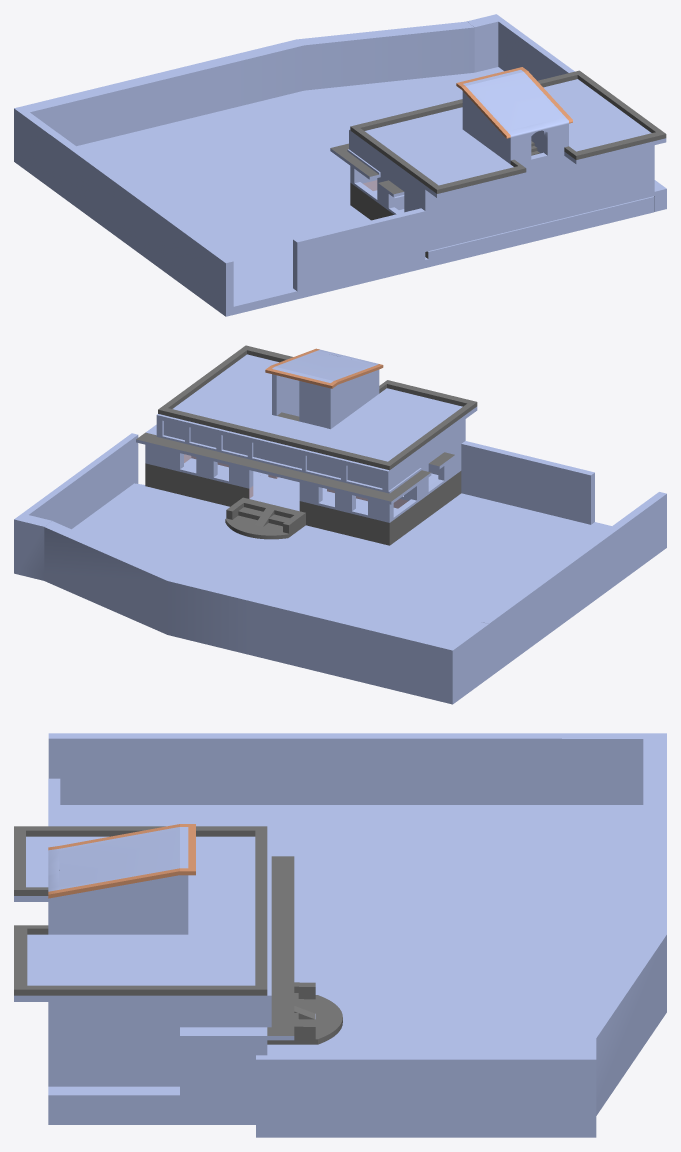
Rendered from uploads_files_2710102_village+house.fbx.
3 views of the same model, one above another, from view 1: azimuth 30°, elevation 25°; view 2: azimuth 150°, elevation 25°; view 3: azimuth 270°, elevation 25° (orthographic). The views are drawn at different scales.
Parts seen in each view (by area): view 1: Cube; view 2: Cube; view 3: Cube.
Part boxes in pixels (x1=…): Cube: x1=14, y1=14, x2=666, y2=316; Cube: x1=14, y1=345, x2=666, y2=704; Cube: x1=14, y1=733, x2=666, y2=1137.
Bounding box in the file's own units: 2107 × 564 × 1781.
